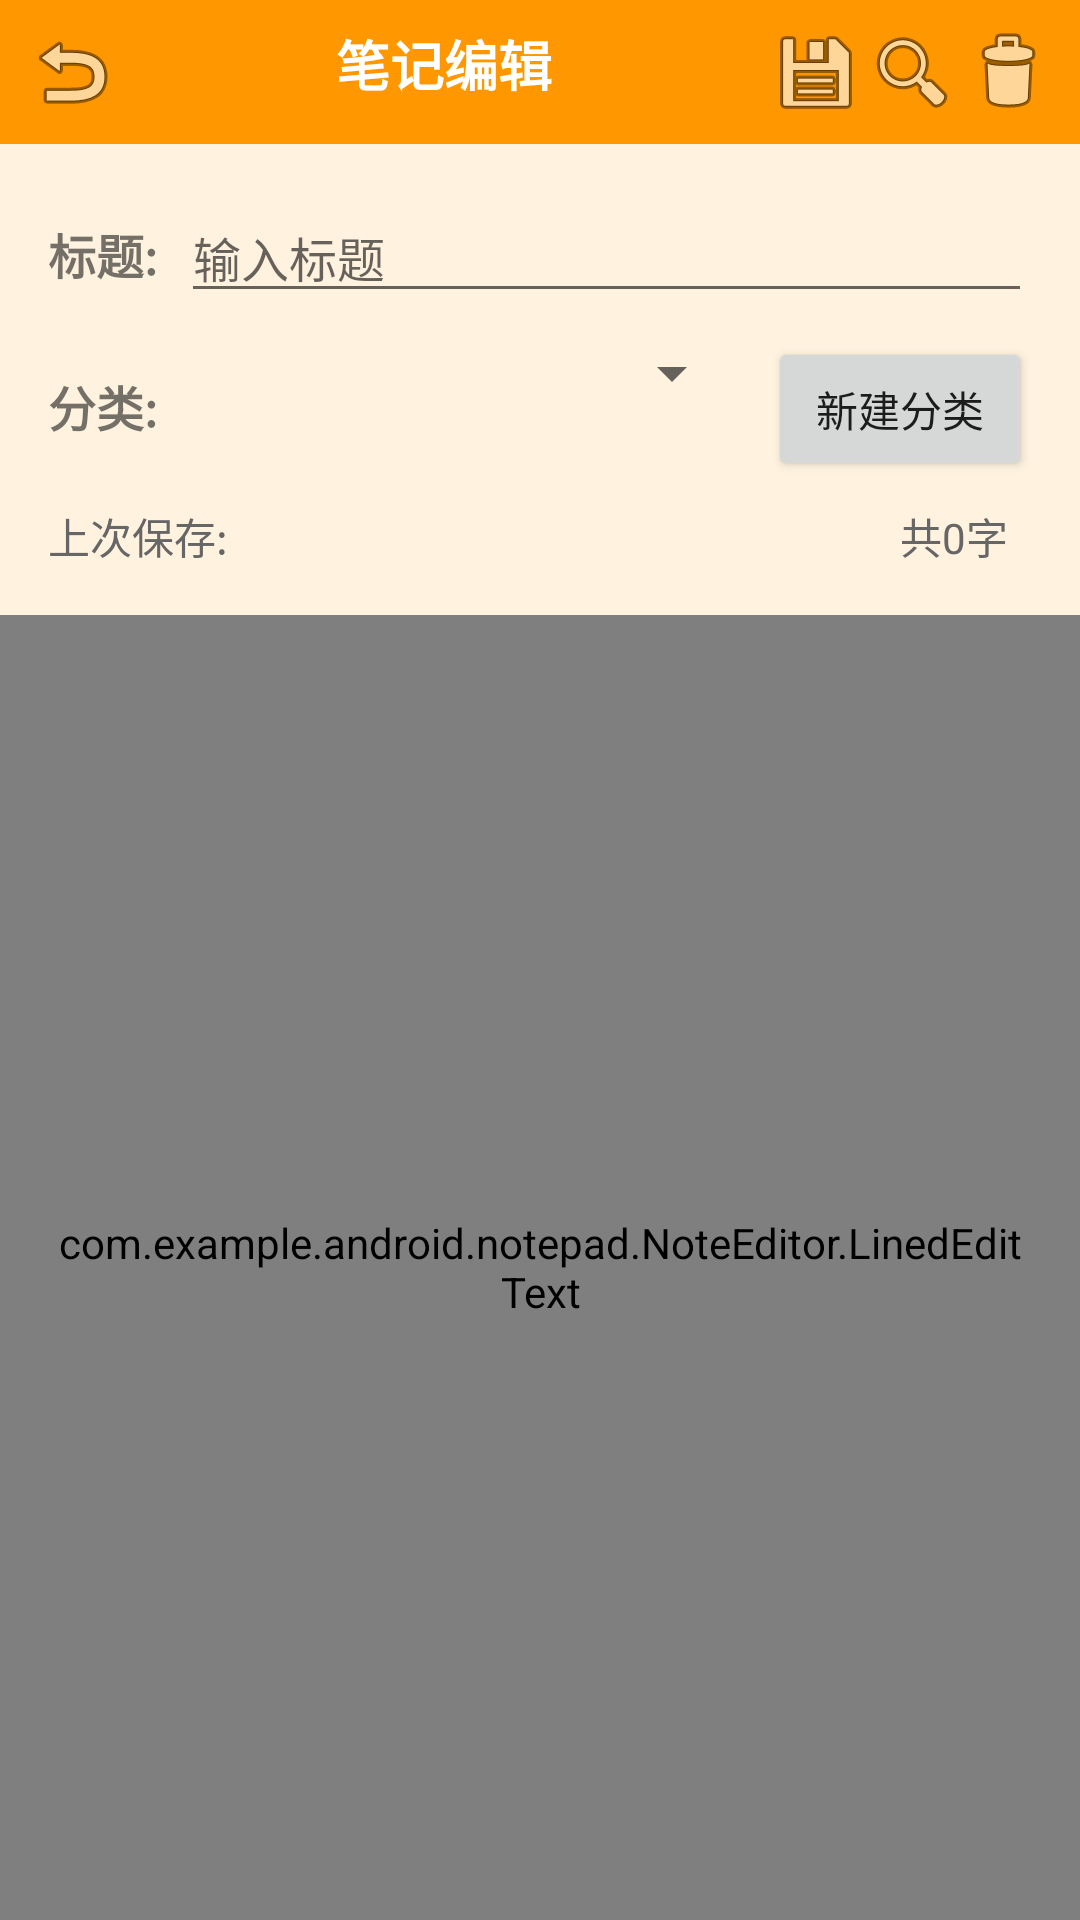

Icons on this 1080w x 1920h Android screen, each with the point to tap as [x,y]:
保存: [816,72]
删除: [1008,70]
搜索: [912,72]
返回: [73,72]
